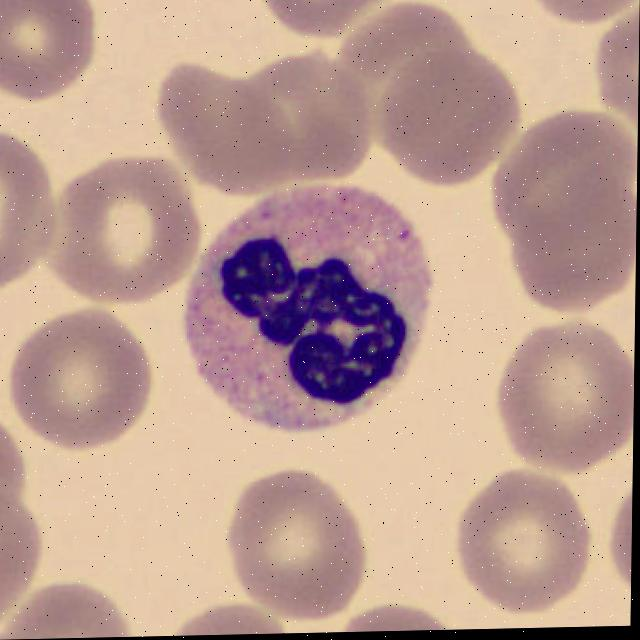neutrophil: (174, 170, 431, 438)
rbc: (31, 156, 202, 305), (221, 468, 377, 625), (369, 44, 529, 196), (146, 40, 295, 203), (492, 319, 635, 478), (333, 10, 487, 157), (7, 308, 154, 457), (449, 480, 598, 620), (232, 48, 375, 187), (501, 180, 637, 320), (493, 120, 638, 246), (0, 0, 100, 104), (0, 122, 53, 294), (237, 0, 411, 44), (0, 585, 138, 640), (0, 482, 44, 632), (595, 3, 640, 149), (155, 600, 296, 636), (507, 0, 640, 35), (601, 466, 633, 602), (0, 405, 28, 543), (339, 607, 467, 632)
